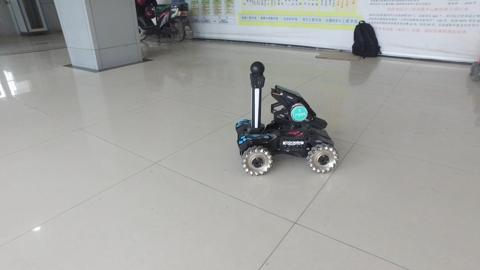bag: (349, 18, 383, 61)
chariot: (233, 59, 339, 177)
